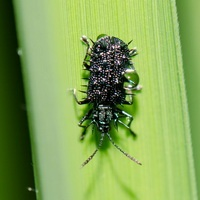insect: (73, 34, 141, 166)
